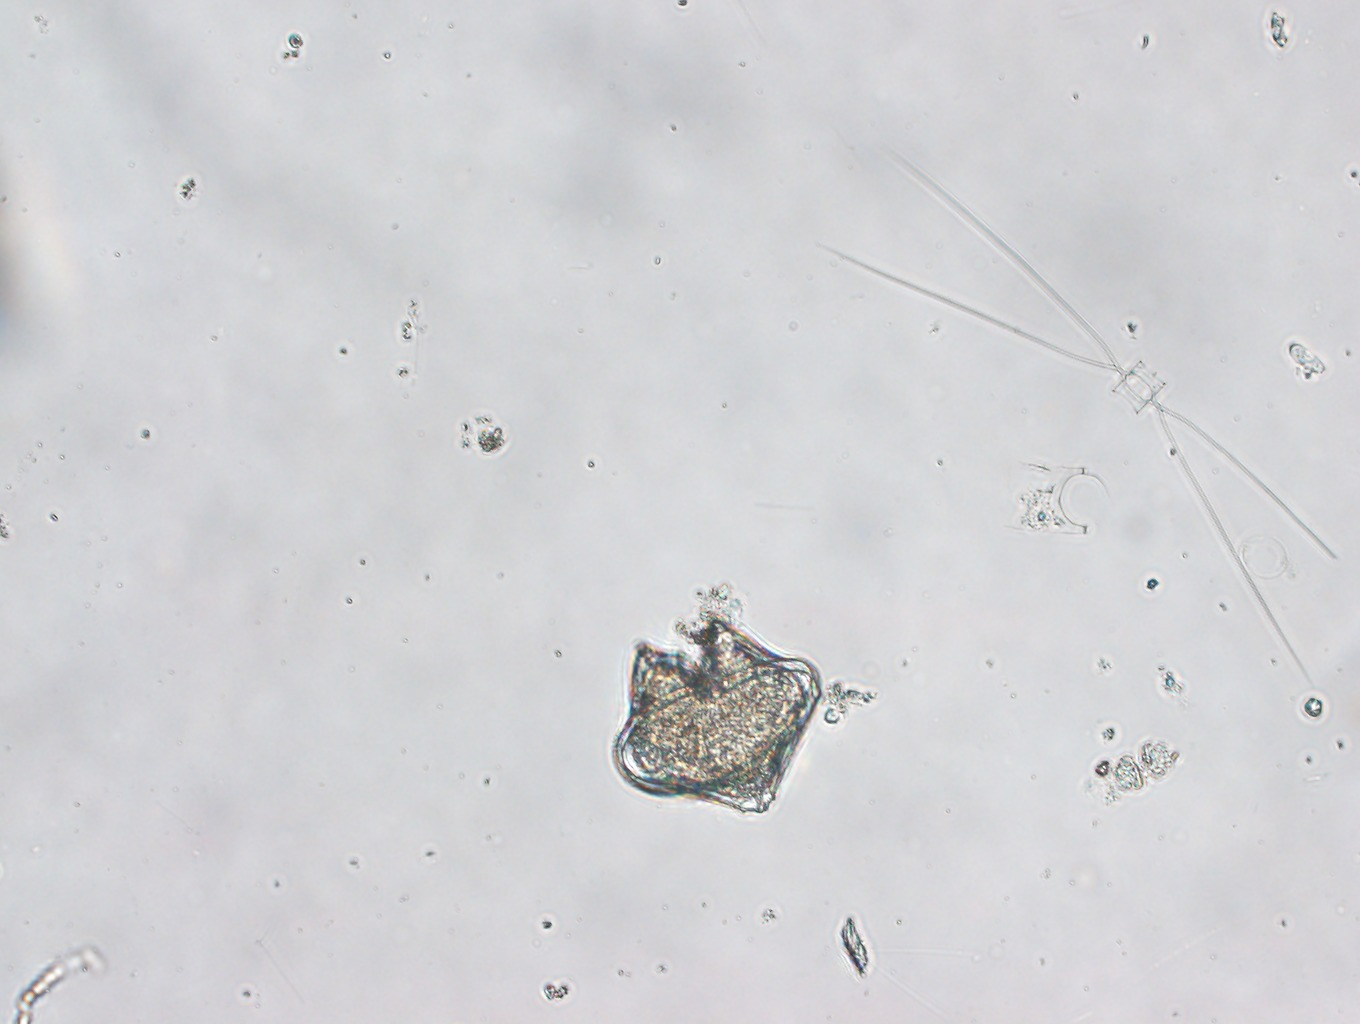chaetoceros: (819, 142, 1335, 687)
protoperidinium: (613, 616, 820, 816)
